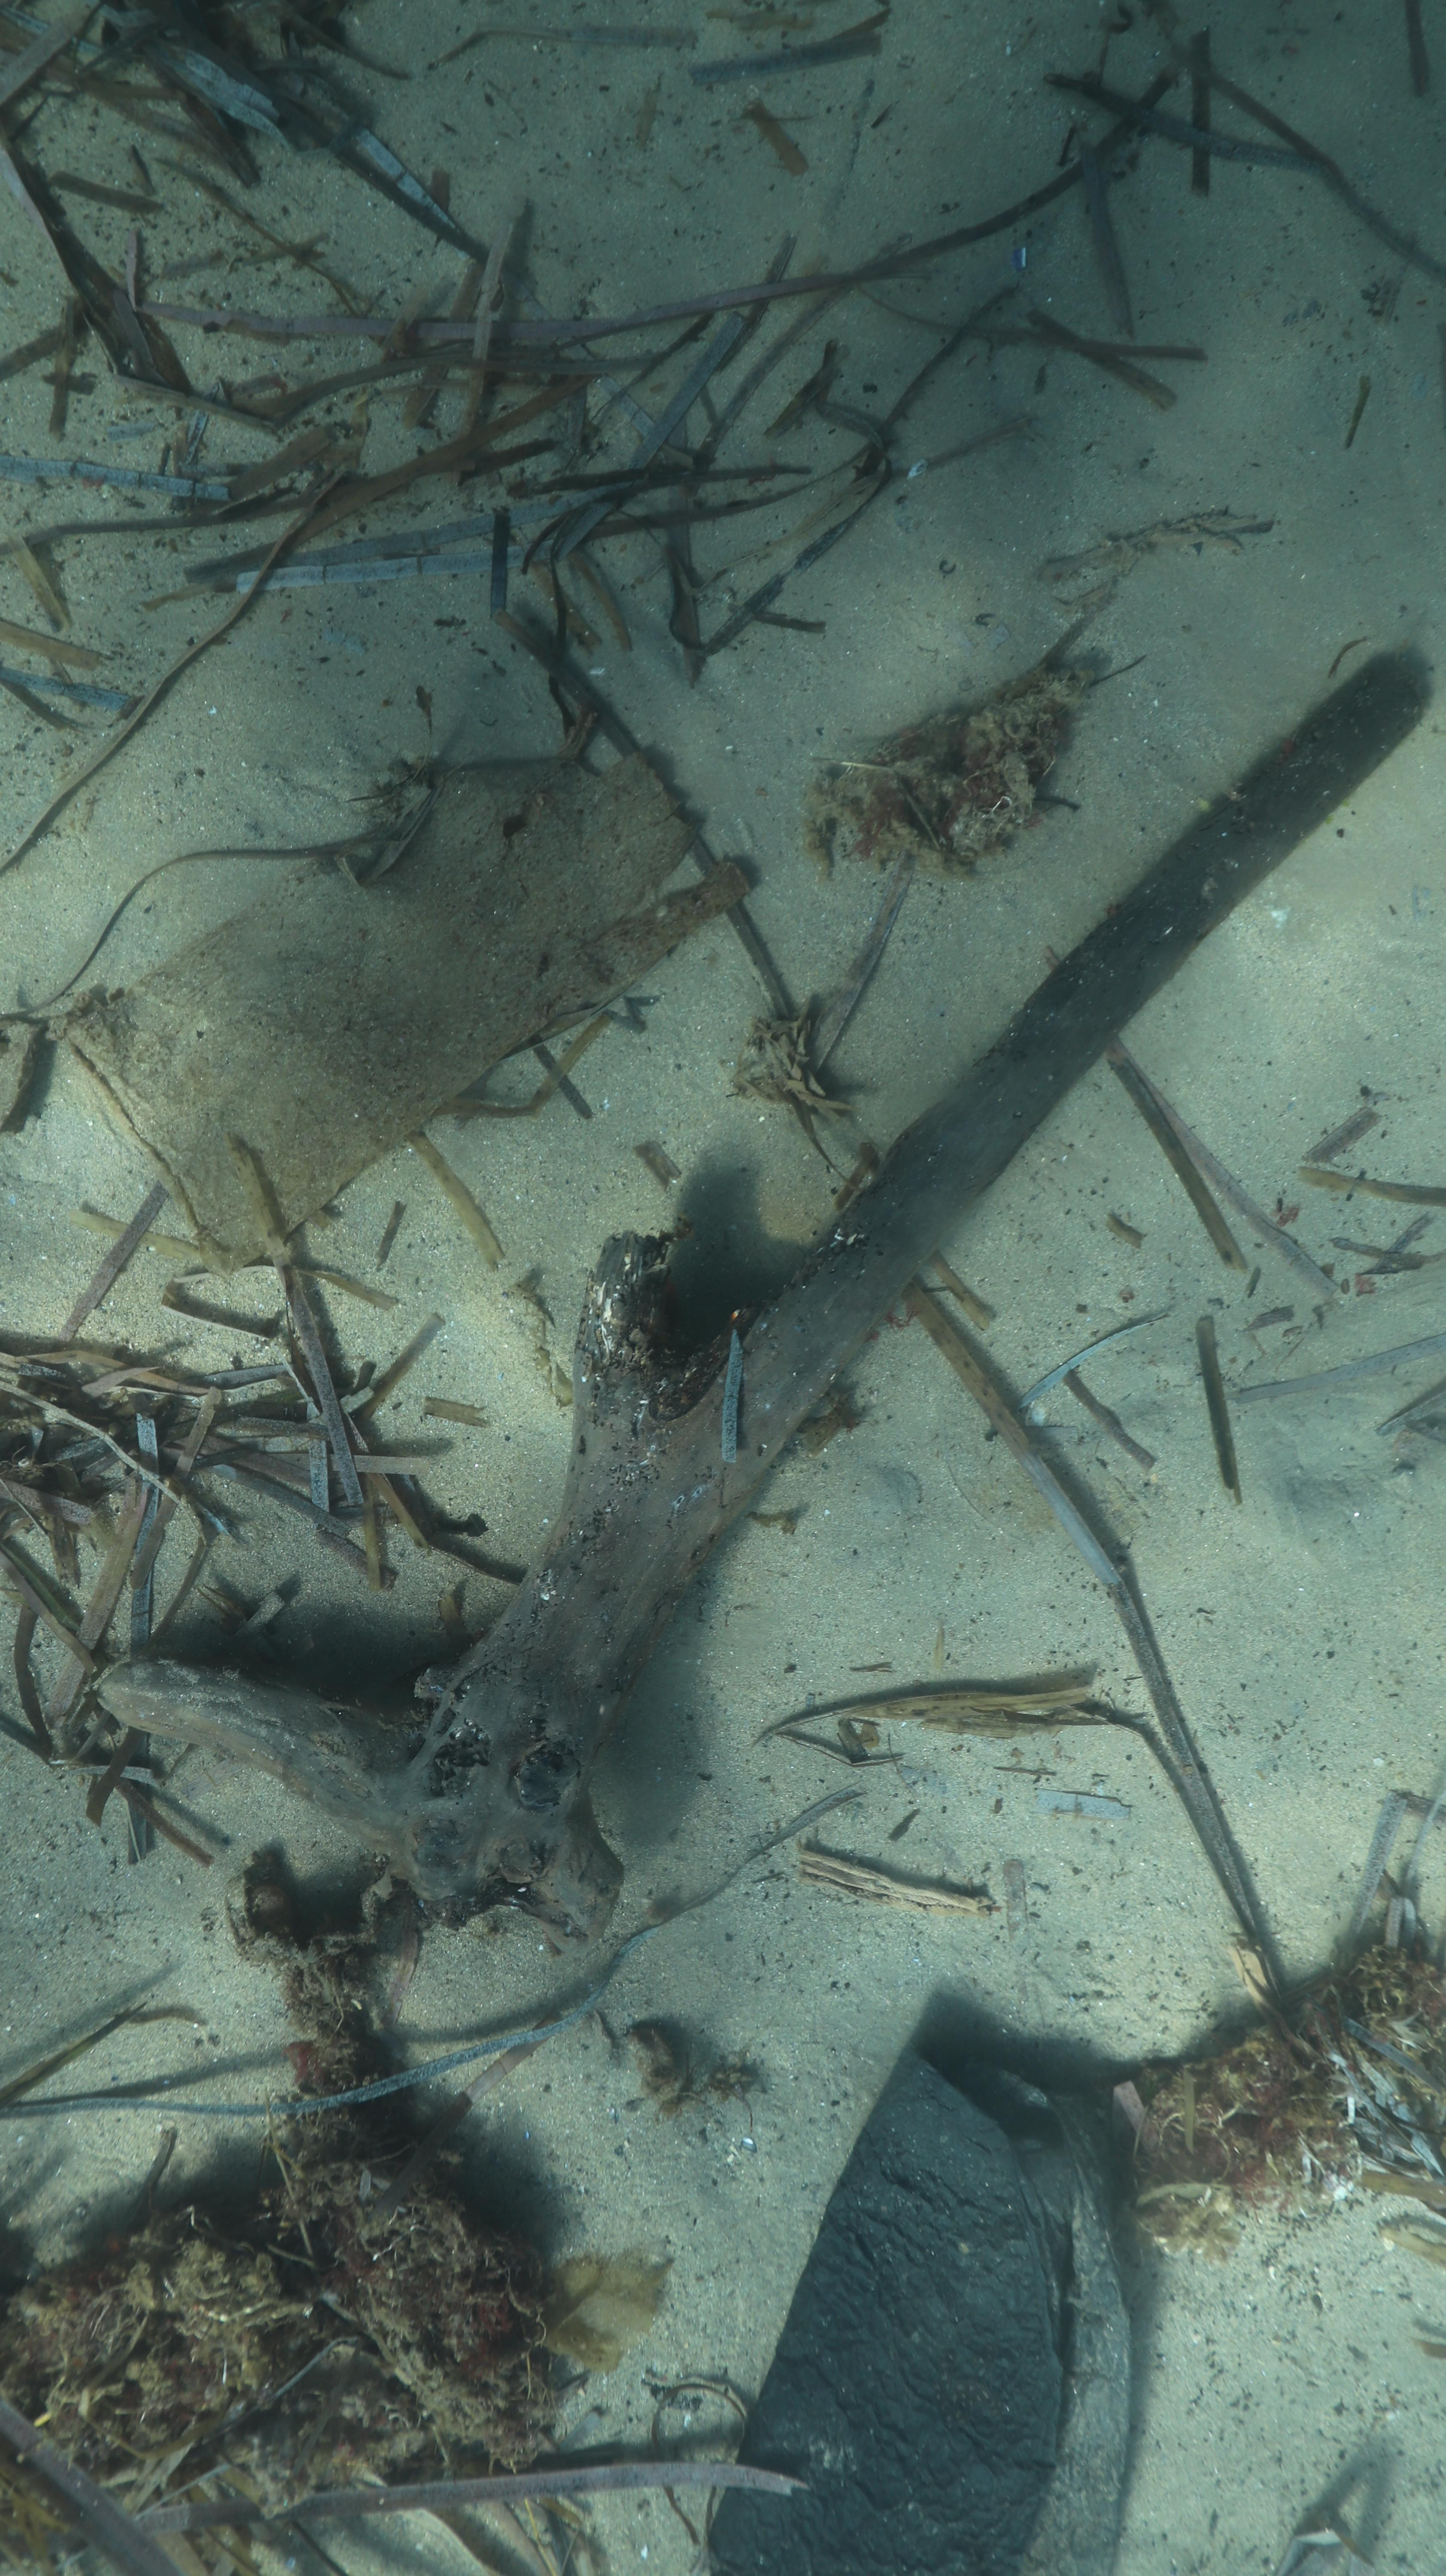wood: (92, 646, 1437, 1930), (55, 747, 749, 1263)
